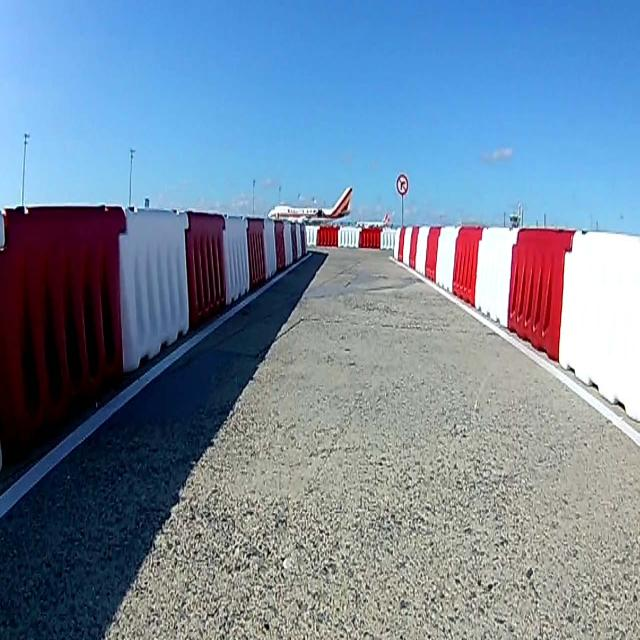sagadonulmez: (396, 176, 408, 196)
